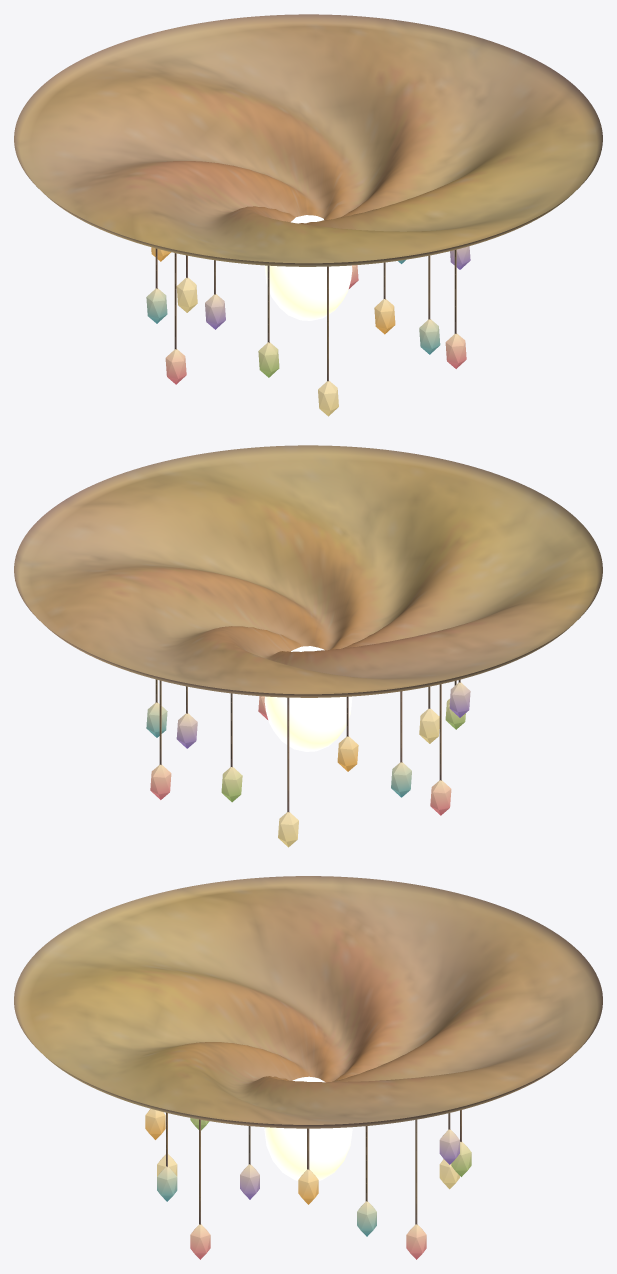
File: gaudi_avize.glb
3 views of the same model, one above another, from view 1: azimuth 30°, elevation 25°; view 2: azimuth 150°, elevation 25°; view 3: azimuth 270°, elevation 25° (orthographic).
Visible parts, largest first — view 1: gaudi_avize_LOD0; view 2: gaudi_avize_LOD0; view 3: gaudi_avize_LOD0.
Part boxes in pixels (<box>): gaudi_avize_LOD0: <box>14,14,602,416</box>; gaudi_avize_LOD0: <box>14,445,602,847</box>; gaudi_avize_LOD0: <box>14,876,602,1259</box>.
Size of what is drawn, in the model's own units: 1.73 by 0.6941 by 1.73.
